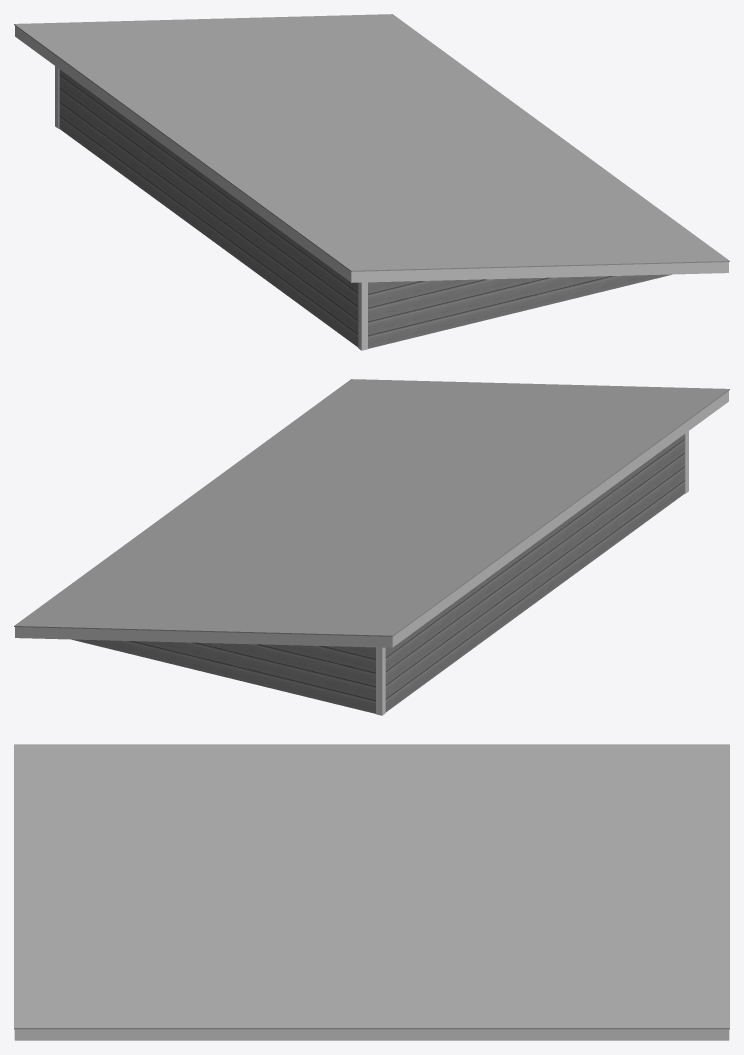
The model's file is slant.glb.
The picture shows the model from 3 angles, top to bottom: view 1: azimuth 30°, elevation 25°; view 2: azimuth 150°, elevation 25°; view 3: azimuth 270°, elevation 25°; orthographic projection. The views are drawn at different scales.
Parts seen in each view (by area): view 1: Roof_top, Roof_exterior.001, Roof_siding, Trims; view 2: Roof_top, Roof_exterior.001, Roof_siding, Trims; view 3: Roof_top, Roof_siding.
Boxes of the visible parts, x1,y1,x2,y2 form: Roof_top: [14, 14, 729, 271]; Roof_exterior.001: [59, 69, 671, 348]; Roof_siding: [15, 26, 728, 282]; Trims: [55, 66, 367, 350]; Roof_top: [14, 379, 729, 636]; Roof_exterior.001: [72, 434, 684, 713]; Roof_siding: [15, 391, 728, 647]; Trims: [376, 431, 688, 715]; Roof_top: [14, 744, 729, 1029]; Roof_siding: [14, 1029, 729, 1040].
Bounding box in the file's own units: 7.12 × 1.75 × 10.97.
Materials: 7 (2 with a texture image).
